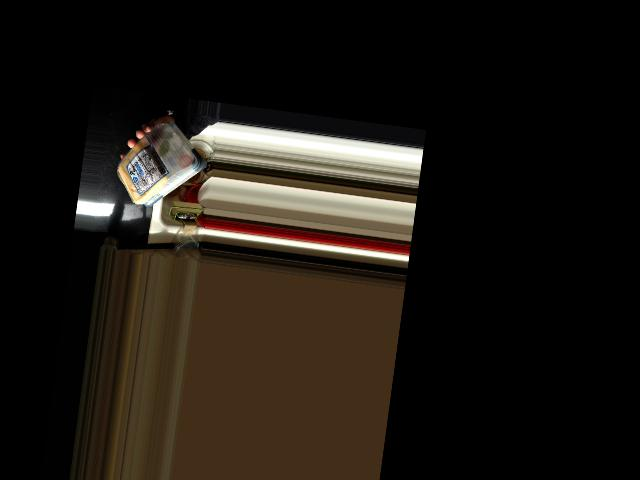cheese: (117, 116, 198, 212)
